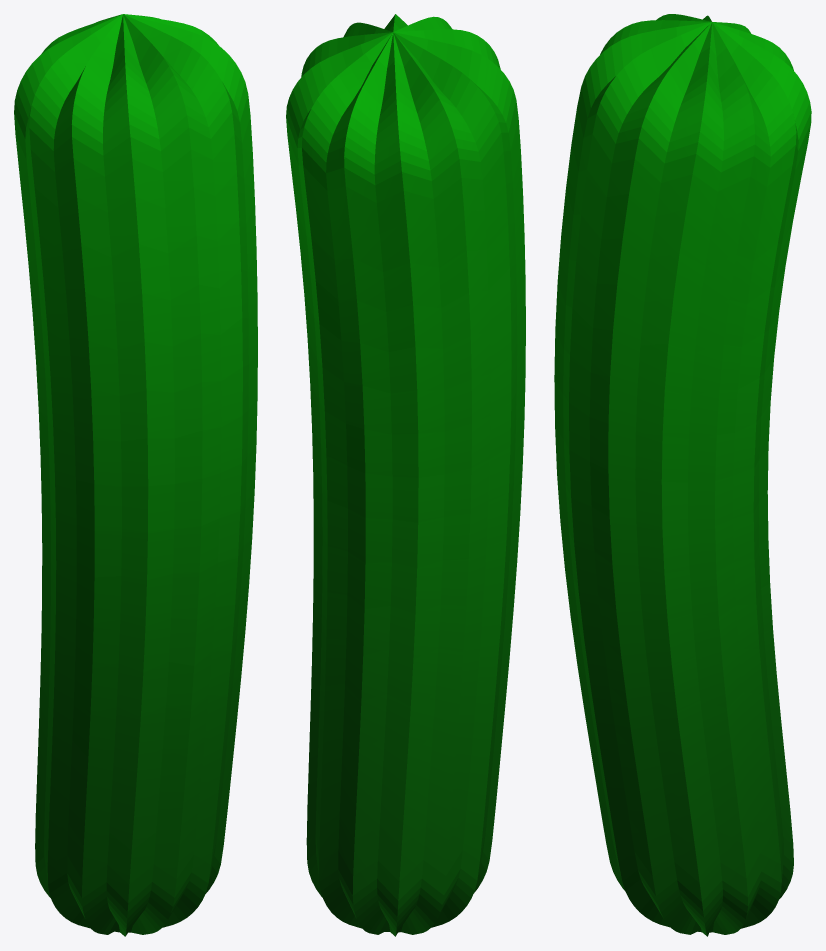
The model's file is TA-tree-captus_var2.fbx.
3 views of the same model, side by side, from view 1: azimuth 30°, elevation 25°; view 2: azimuth 150°, elevation 25°; view 3: azimuth 270°, elevation 25° (orthographic).
Parts seen in each view (by area): view 1: captus2; view 2: captus2; view 3: captus2.
Boxes of the visible parts, bbox=[...] form: captus2: bbox=[14, 14, 257, 936]; captus2: bbox=[286, 14, 525, 936]; captus2: bbox=[554, 14, 811, 936].
Size of the model in its own units: 0.5064 by 2.15 by 0.5555.
1 material, 1 textured.
